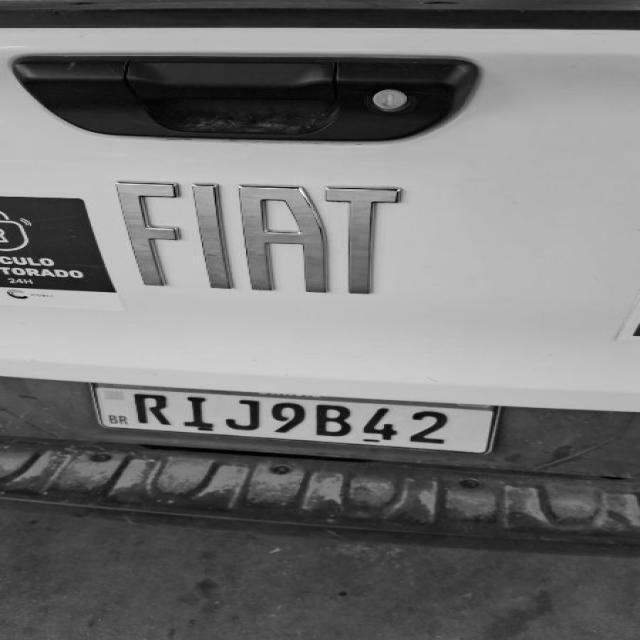placa_mercosul: (93, 381, 508, 457)
